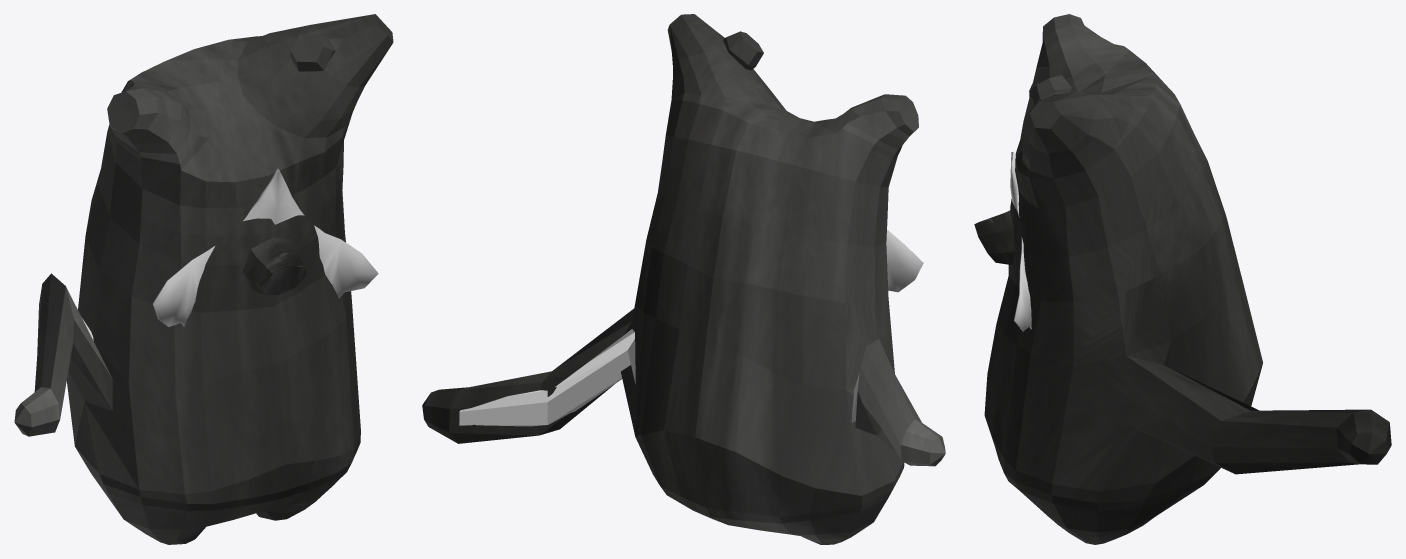
File: frame_0023.obj
The picture shows the model from 3 angles, left to right: view 1: azimuth 30°, elevation 25°; view 2: azimuth 150°, elevation 25°; view 3: azimuth 270°, elevation 25°; orthographic projection. The views are drawn at different scales.
Parts seen in each view (by area): view 1: korok, leaf, nose; view 2: korok, leaf; view 3: korok, nose, leaf.
Boxes of the visible parts, bbox=[...] form: korok: bbox=[14, 14, 393, 544]; leaf: bbox=[152, 168, 378, 326]; nose: bbox=[243, 237, 306, 294]; korok: bbox=[422, 14, 945, 544]; leaf: bbox=[886, 230, 923, 292]; korok: bbox=[984, 14, 1391, 544]; nose: bbox=[974, 210, 1014, 265]; leaf: bbox=[1010, 151, 1031, 331].
Size of the model in its own units: 1.96 by 2.19 by 1.74.
